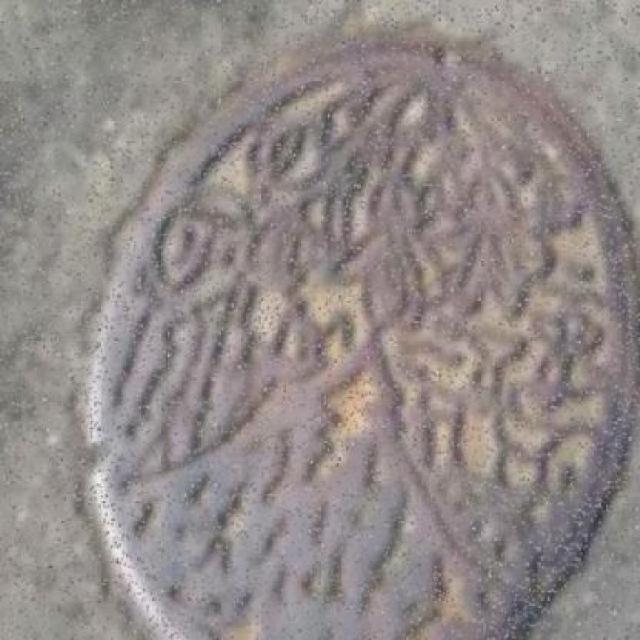Manhole: (82, 42, 636, 635)
